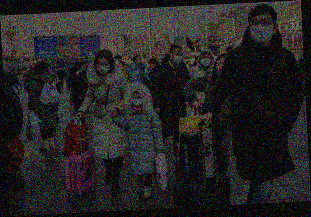with_mask: (249, 17, 274, 45), (95, 60, 111, 73), (199, 53, 212, 67), (171, 51, 184, 64), (130, 94, 143, 105)
without_mask: (215, 60, 225, 74), (78, 66, 85, 74), (136, 56, 142, 63)
